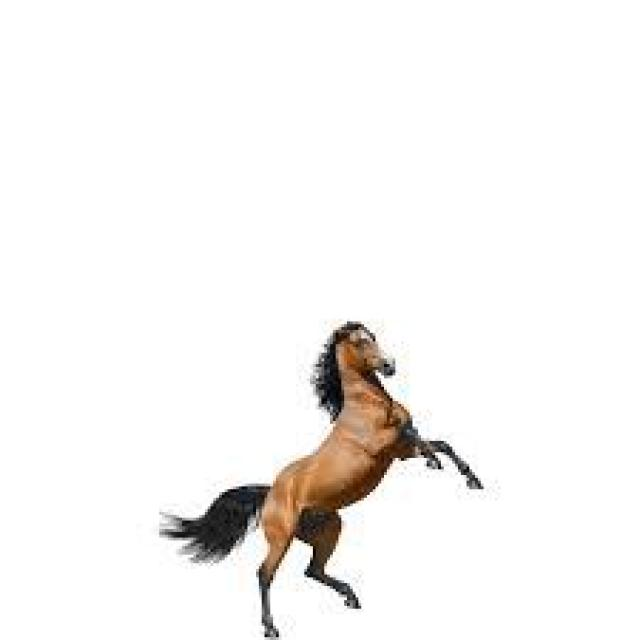Horse: (182, 310, 473, 636)
